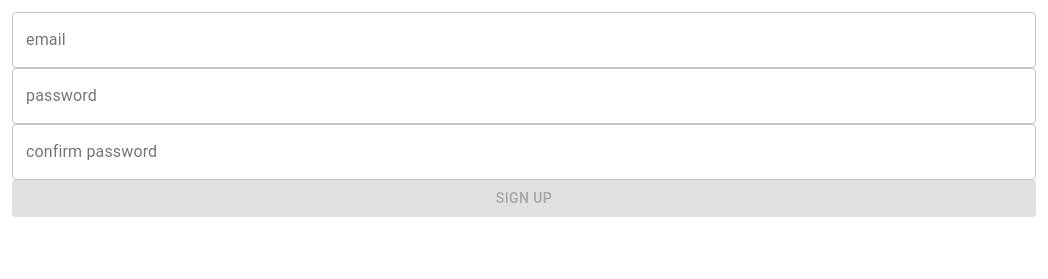
it: after submitting, if the email is duplicated, user is told that a user with that email already exists.
Type "email@email.com" into the field labelled "email" at (524, 40), box [12, 12, 1036, 68]
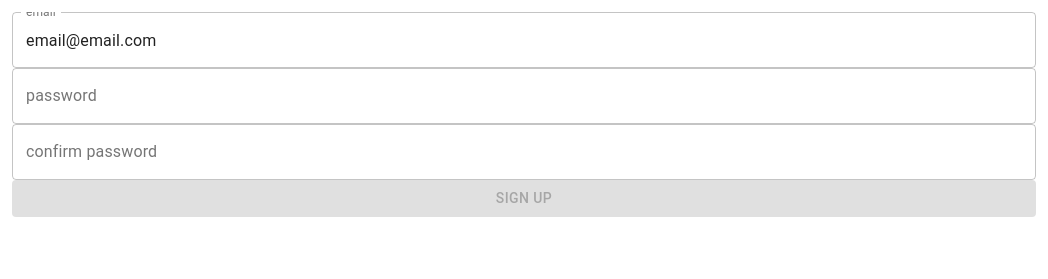
Type "password" into the password field labelled "password" at (524, 96), box [12, 68, 1036, 124]
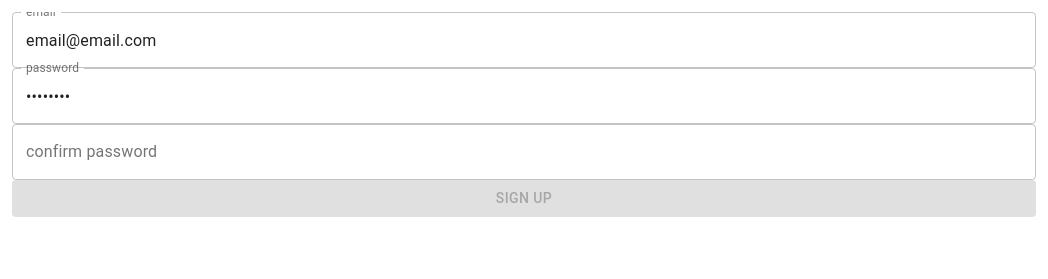
Type "password" into the password field labelled "confirm password" at (524, 152), box [12, 124, 1036, 180]
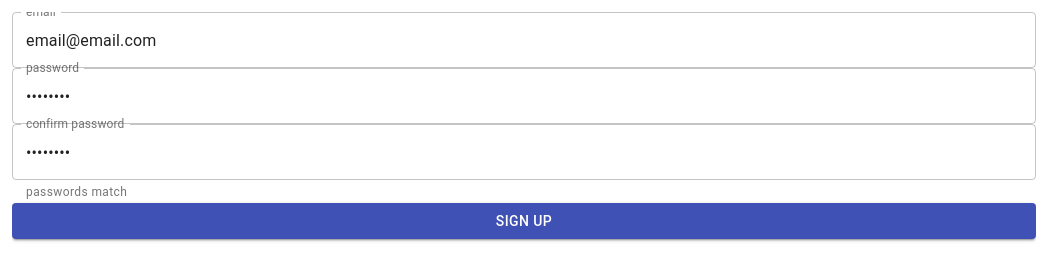
Click the button at (524, 221), box [12, 203, 1036, 239]
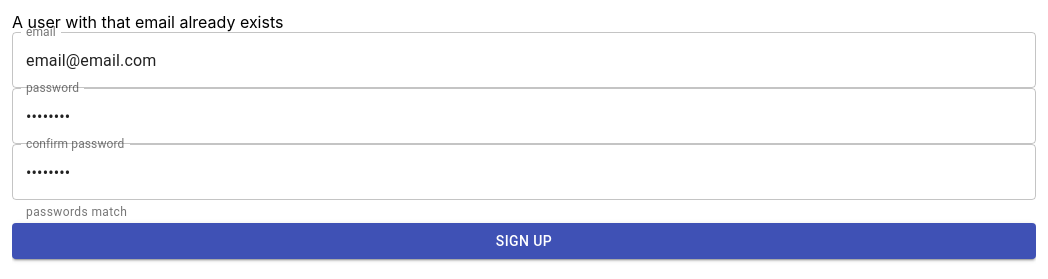
Result: the text "A user with that email already exists" is shown at [12, 12, 284, 32]
